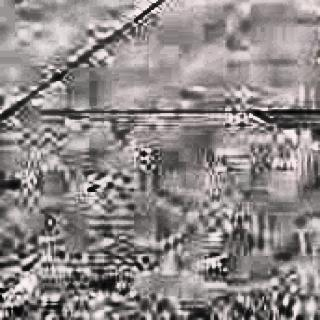crack: (0, 0, 167, 116), (41, 102, 320, 120)
